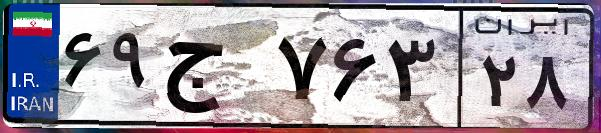2: (475, 38, 525, 113)
3: (385, 28, 445, 110)
6: (330, 28, 385, 110), (57, 26, 110, 100)
7: (270, 28, 330, 110)
8: (525, 38, 570, 115)
9: (110, 28, 158, 98)
ج: (158, 20, 270, 120)
